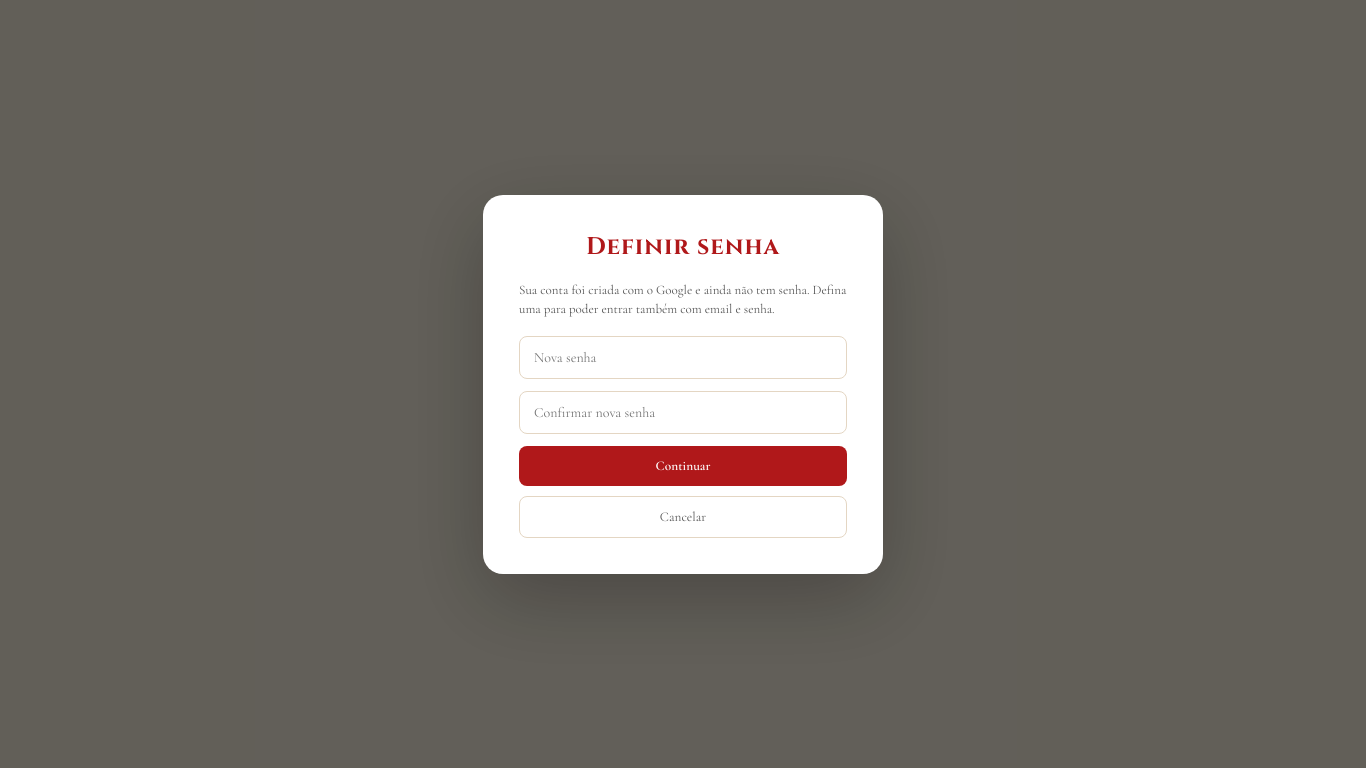
Test: SetPasswordModal › requires both fields
Step 1. Click the button "Continuar" → (683, 466), box [519,446,847,486]
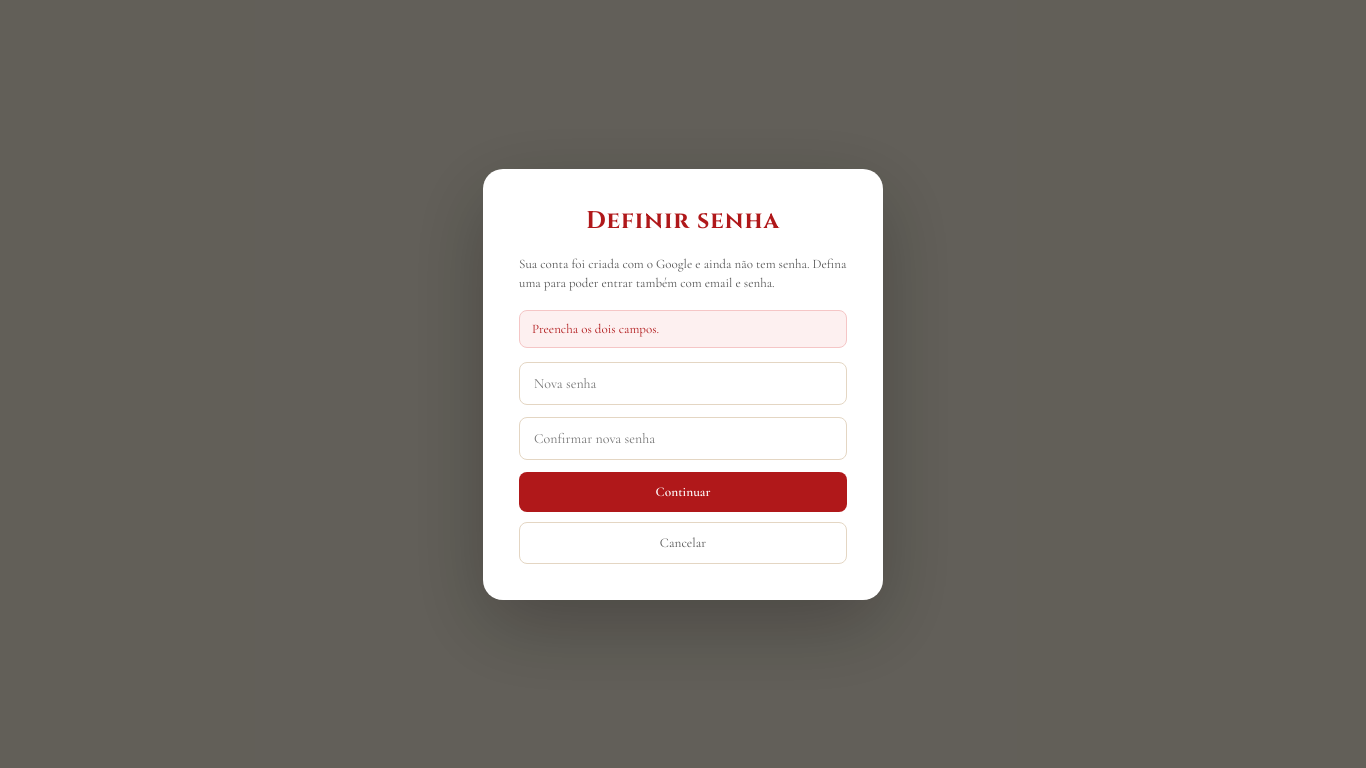
Check: the text "Preencha os dois campos." is shown, box [519,310,847,348]
